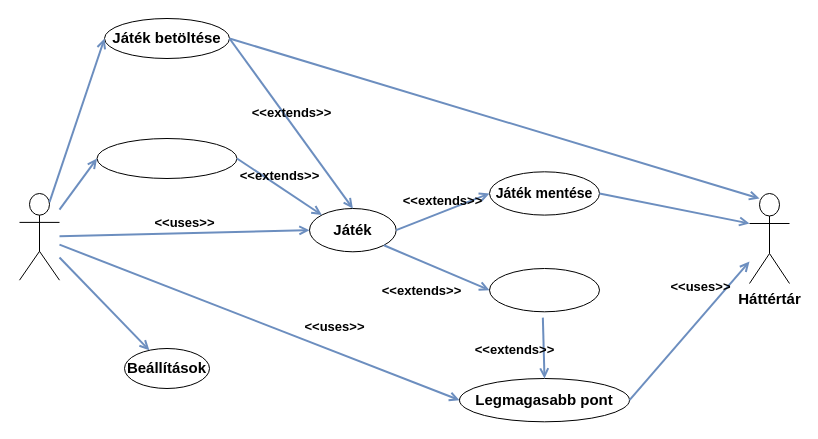
Some shapes in this 818 by 439 pixel diagram are drawn without their labels. The centre of each missing label's shape, as x and y in pixels:
"Játék inicializálása" goes at (166,158).
"Kilépés" goes at (544,290).
"Player" goes at (39,236).
